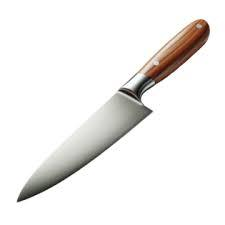Knife: (16, 17, 210, 202)
